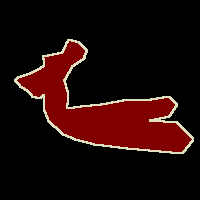tie: (15, 40, 193, 153)
